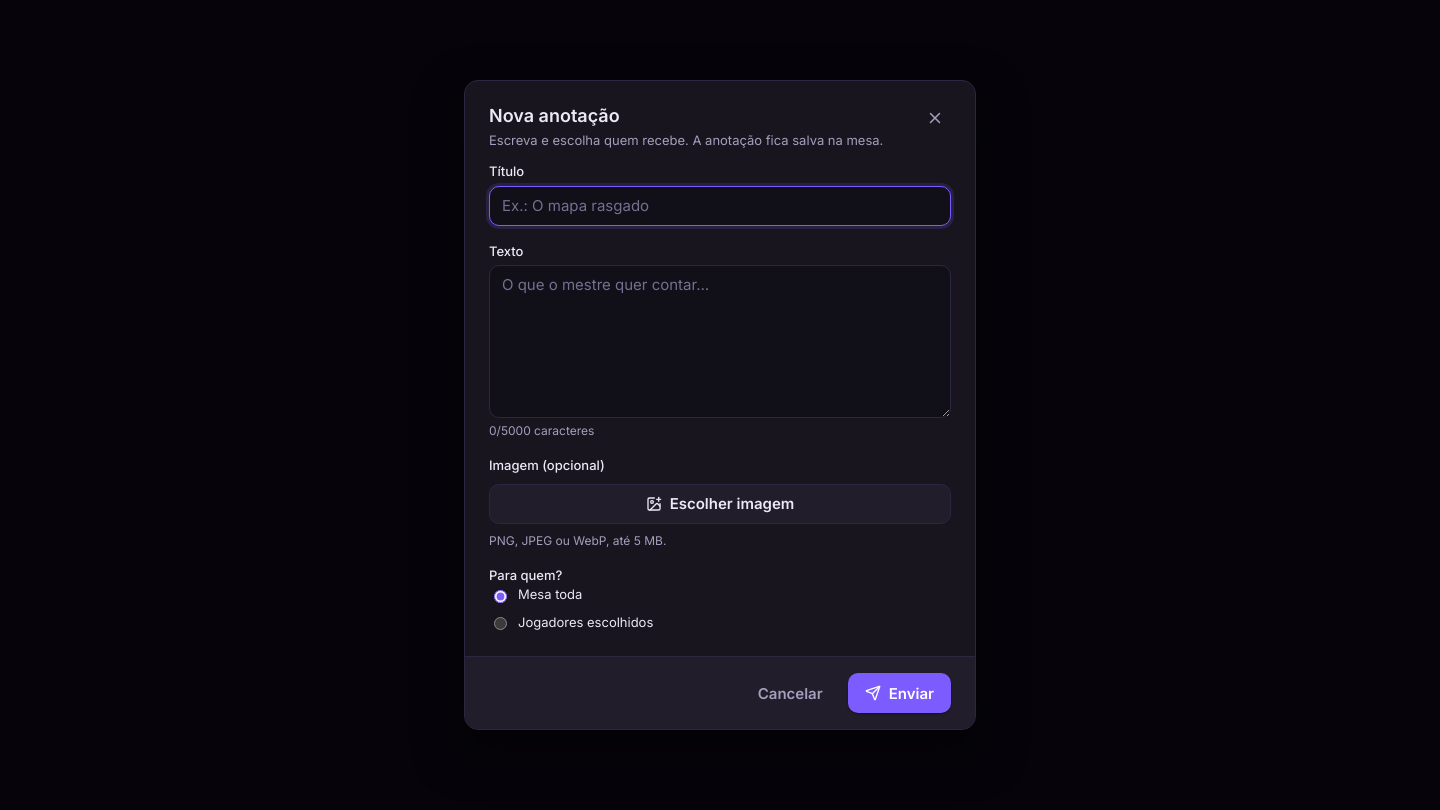
Test: nova anotação › shouldBlockAnEmptyTitleAndExplainItInline
Click the button "Enviar": click(899, 693) left=848, top=673, right=951, bottom=713
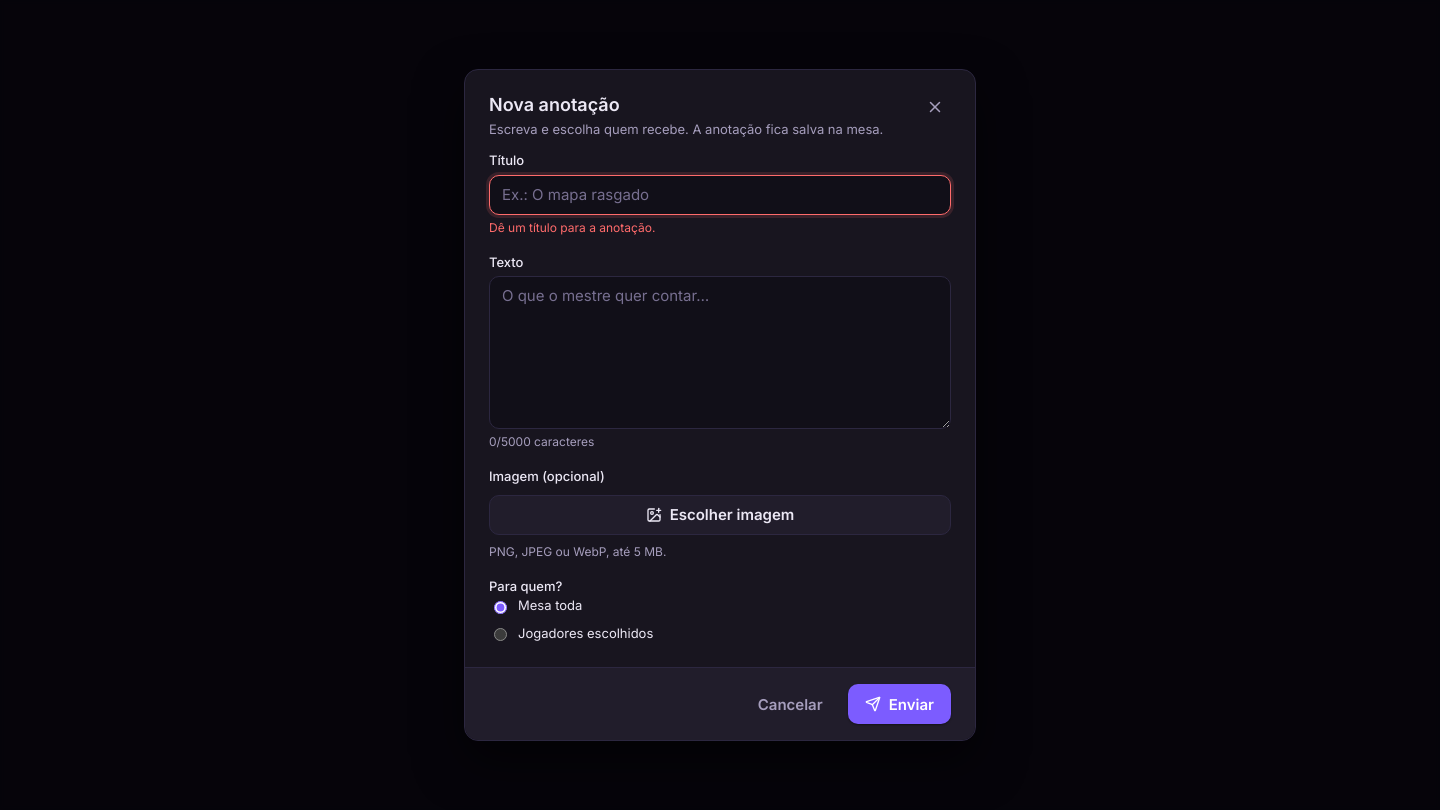
Check: the text "Dê um título para a anotação." is shown, box left=489, top=220, right=655, bottom=234
